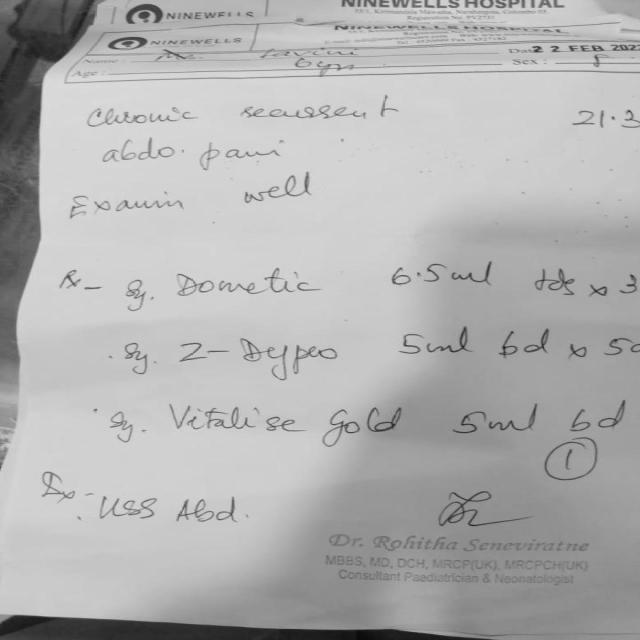Prescription: (173, 325, 640, 377), (173, 258, 639, 310)
